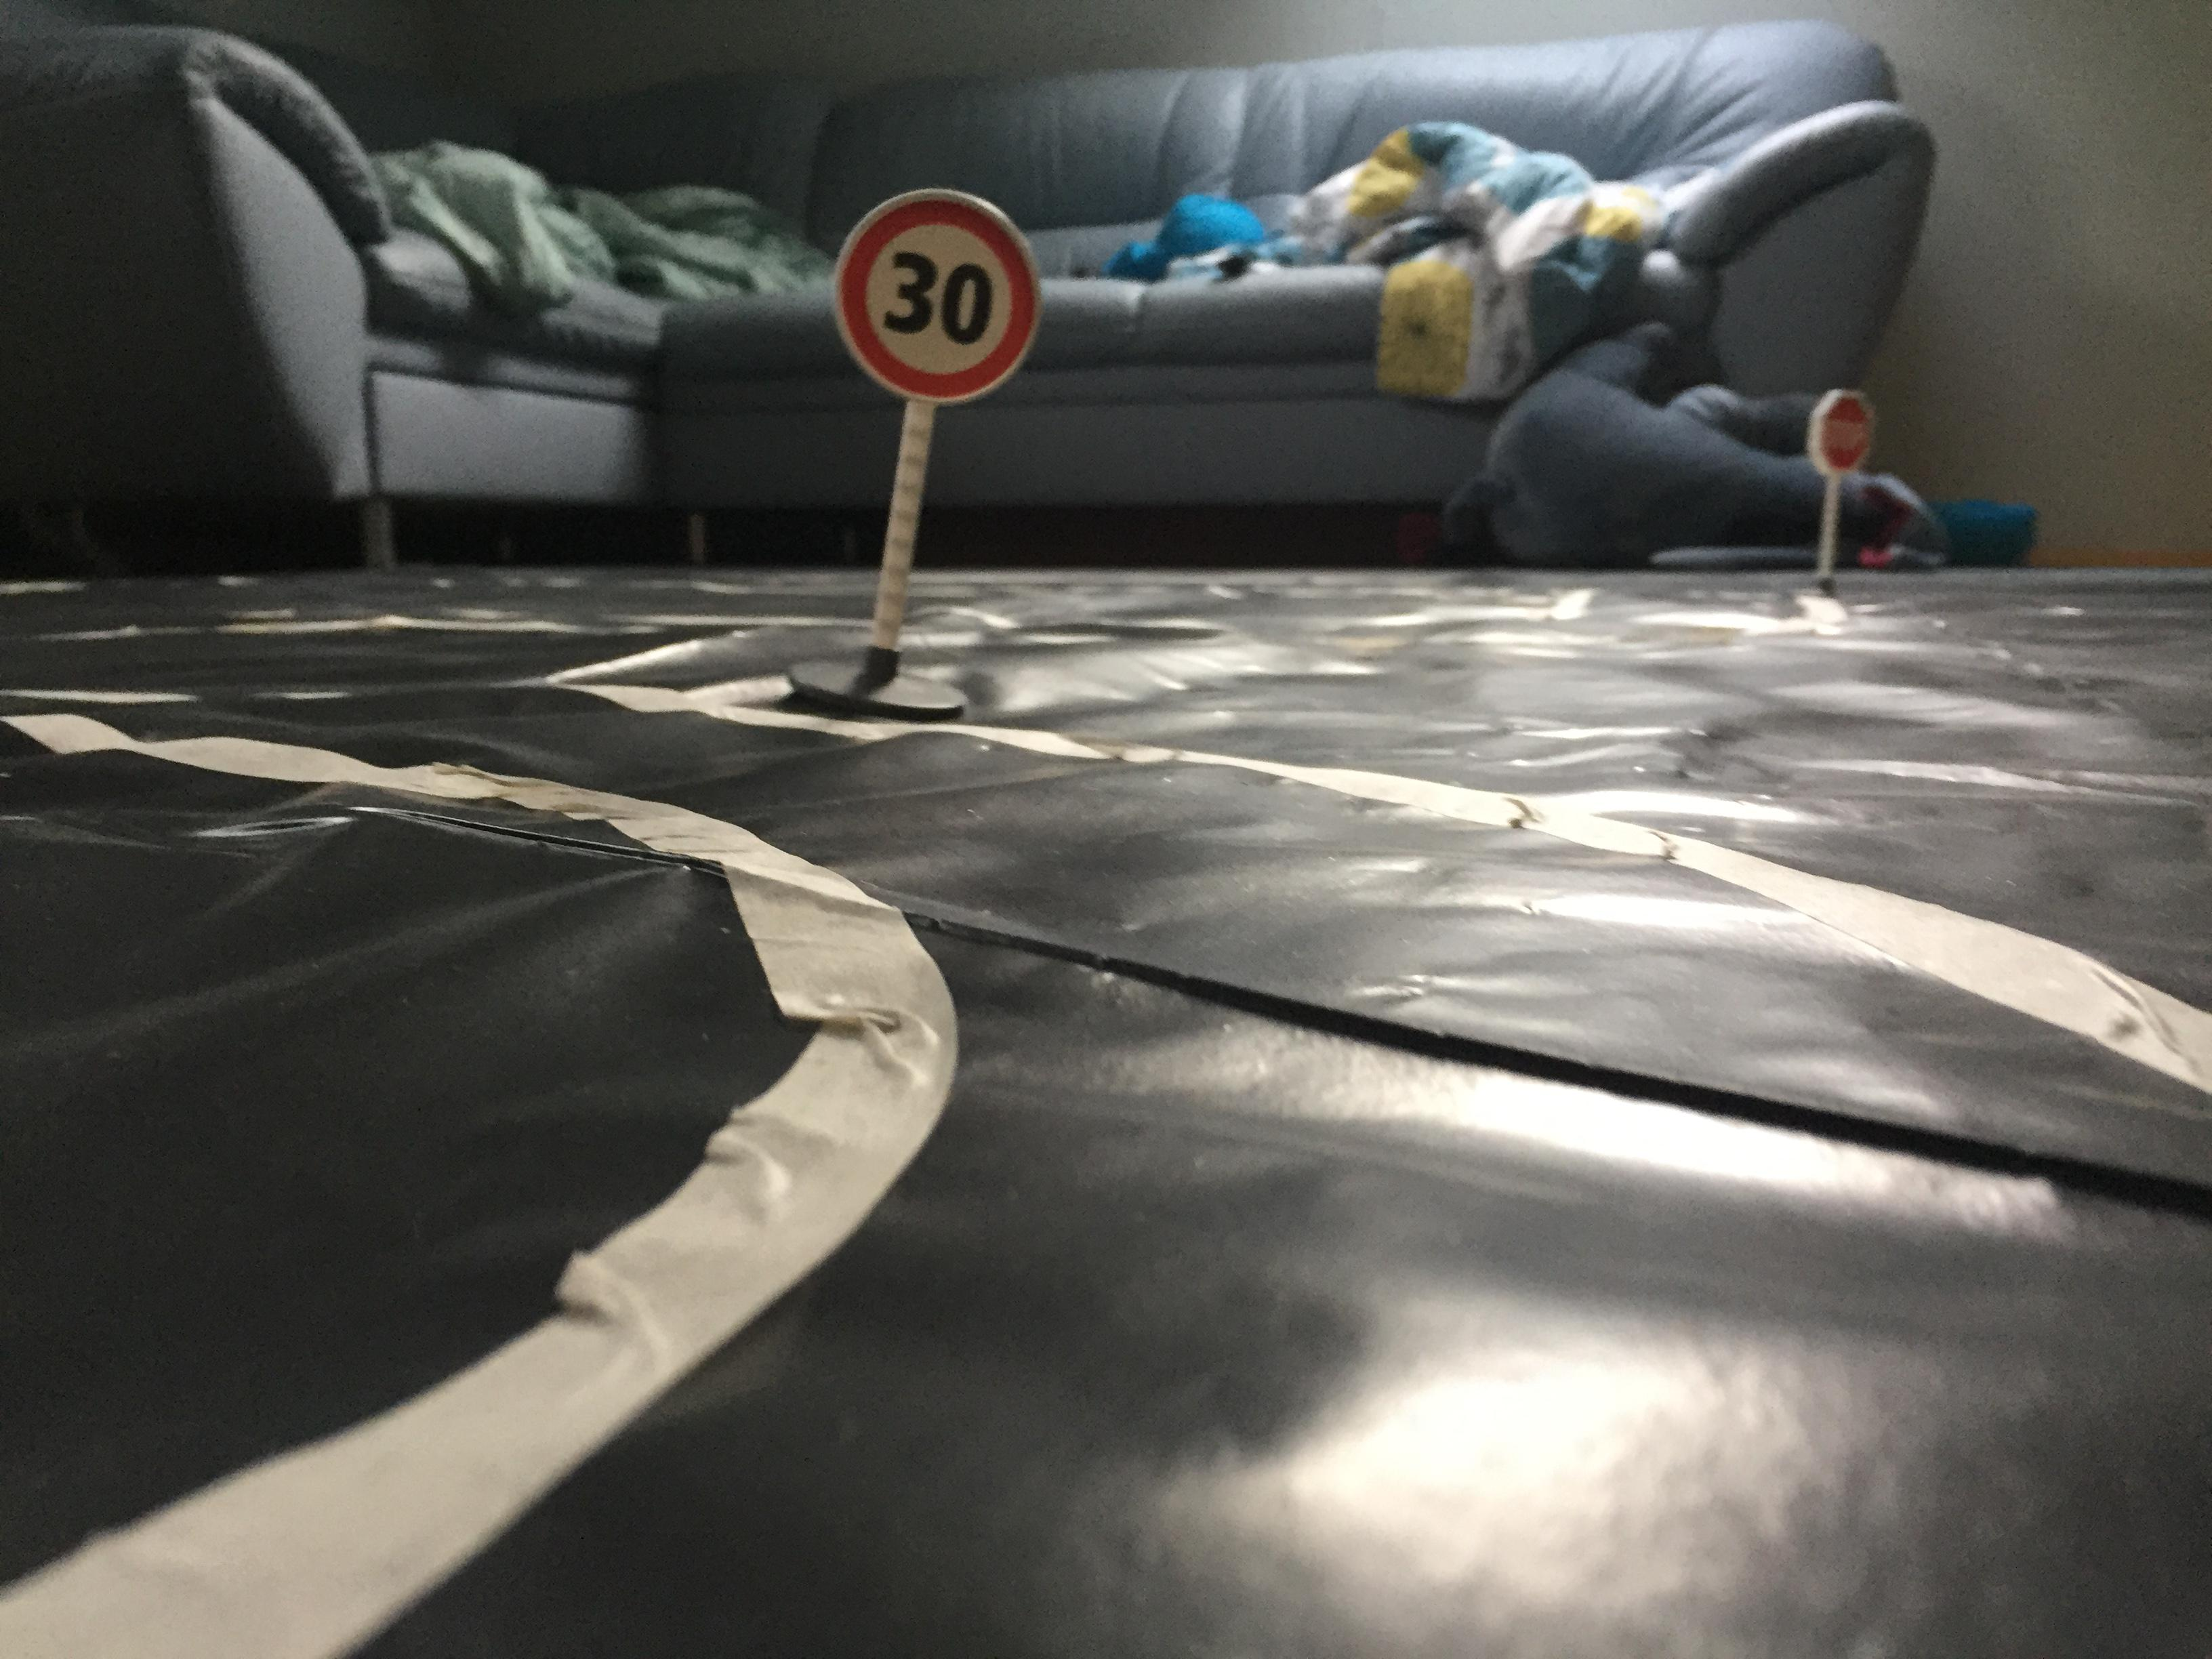speed: (826, 179, 1049, 413)
